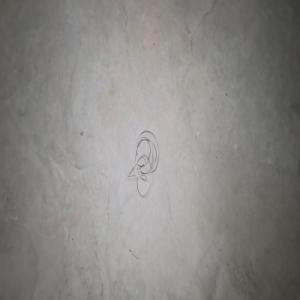Wire: (127, 130, 158, 196)
